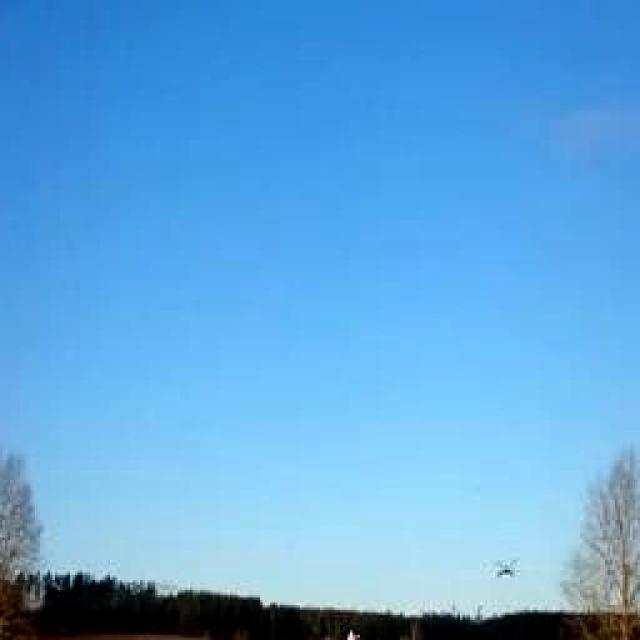bird: (481, 542, 536, 592)
